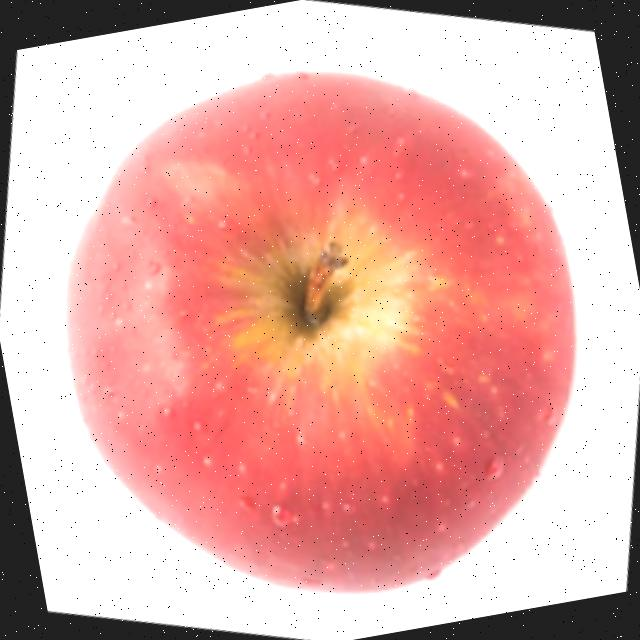Ripe: (18, 19, 626, 640)
